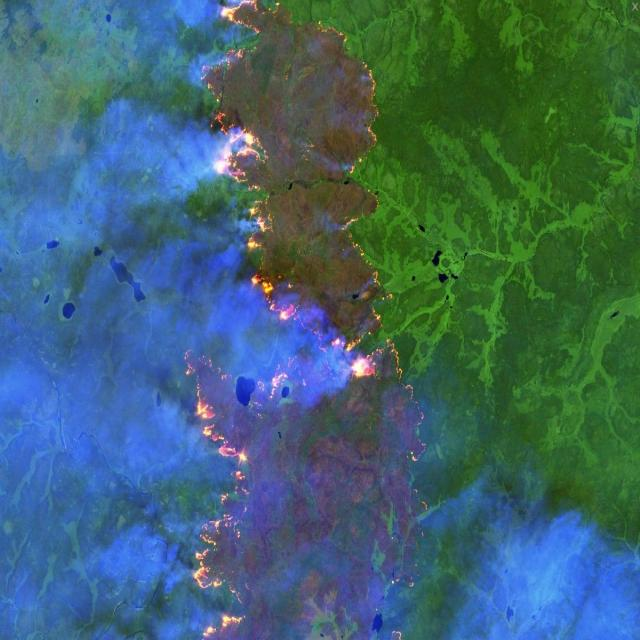fire: (184, 0, 436, 640)
